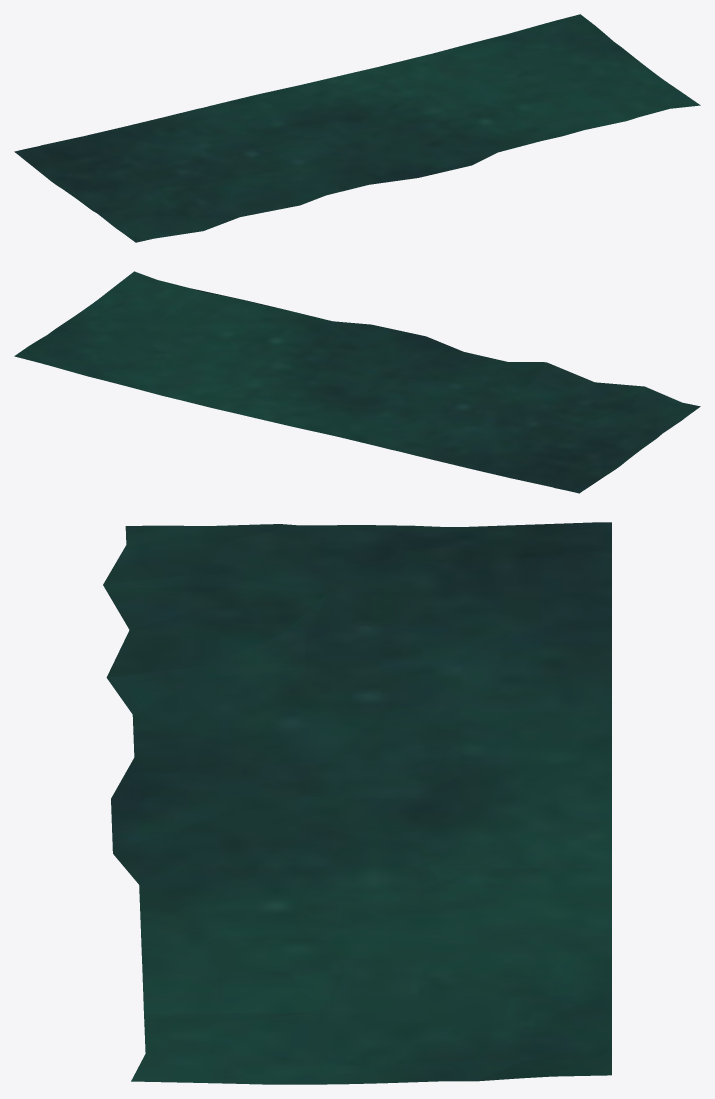
3 views of the same model, one above another, from view 1: azimuth 30°, elevation 25°; view 2: azimuth 150°, elevation 25°; view 3: azimuth 270°, elevation 25° (orthographic). The views are drawn at different scales.
Bounding box in the file's own units: 52.22 × 0.5164 × 20.36.
Materials: 1 (1 with a texture image).
